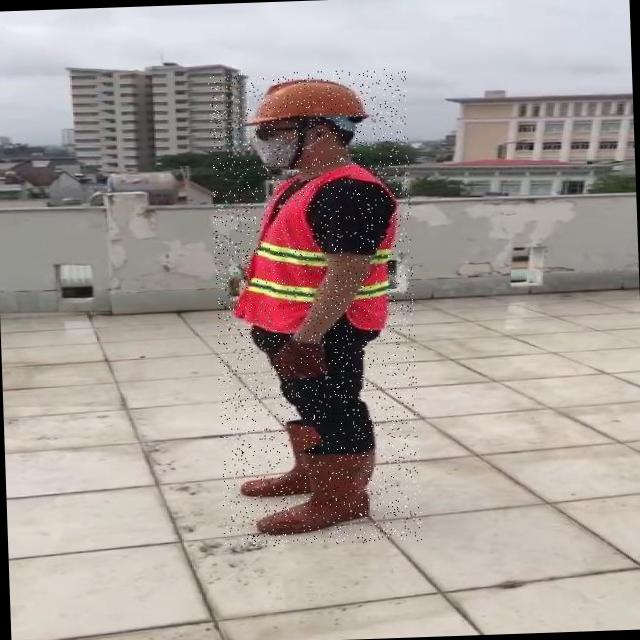hard_hat: (238, 72, 370, 128)
safety_vest: (232, 167, 398, 336)
vehicle: (207, 68, 422, 548)
work_boots: (254, 448, 380, 536), (236, 419, 325, 496)
